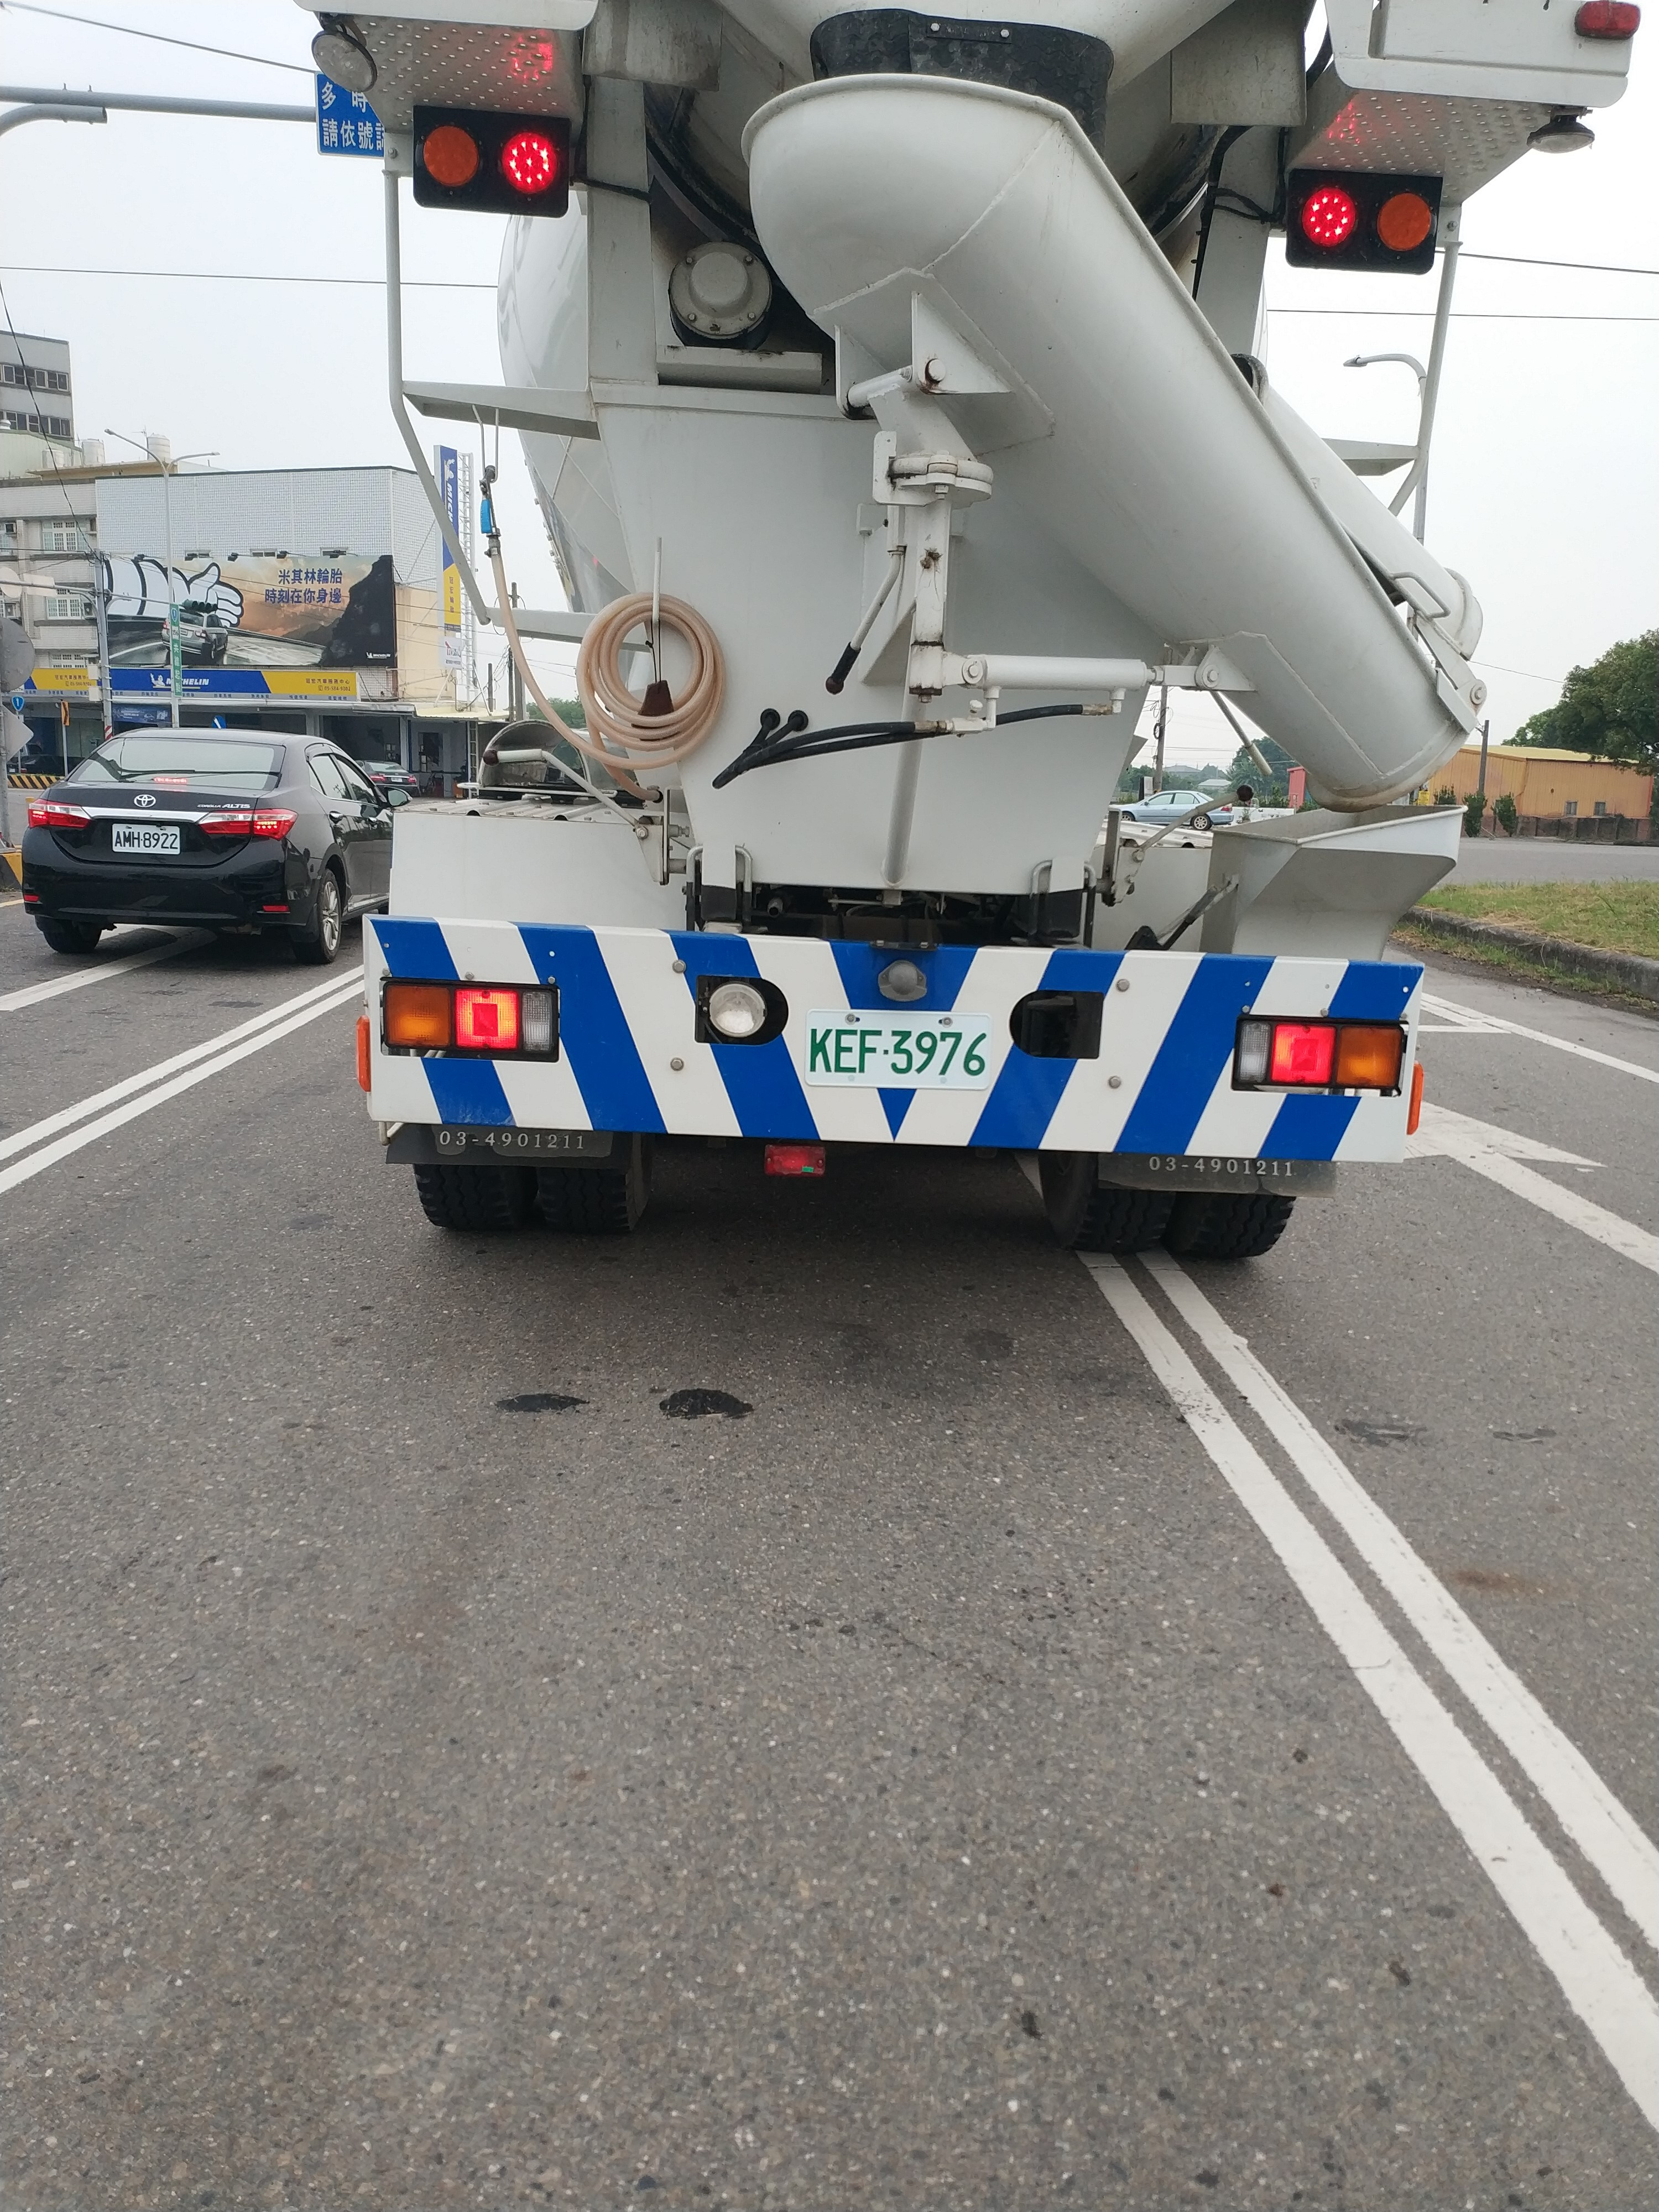car: (298, 0, 1617, 1306), (26, 678, 352, 1010)
car_card: (793, 1007, 999, 1085), (110, 805, 178, 860)
